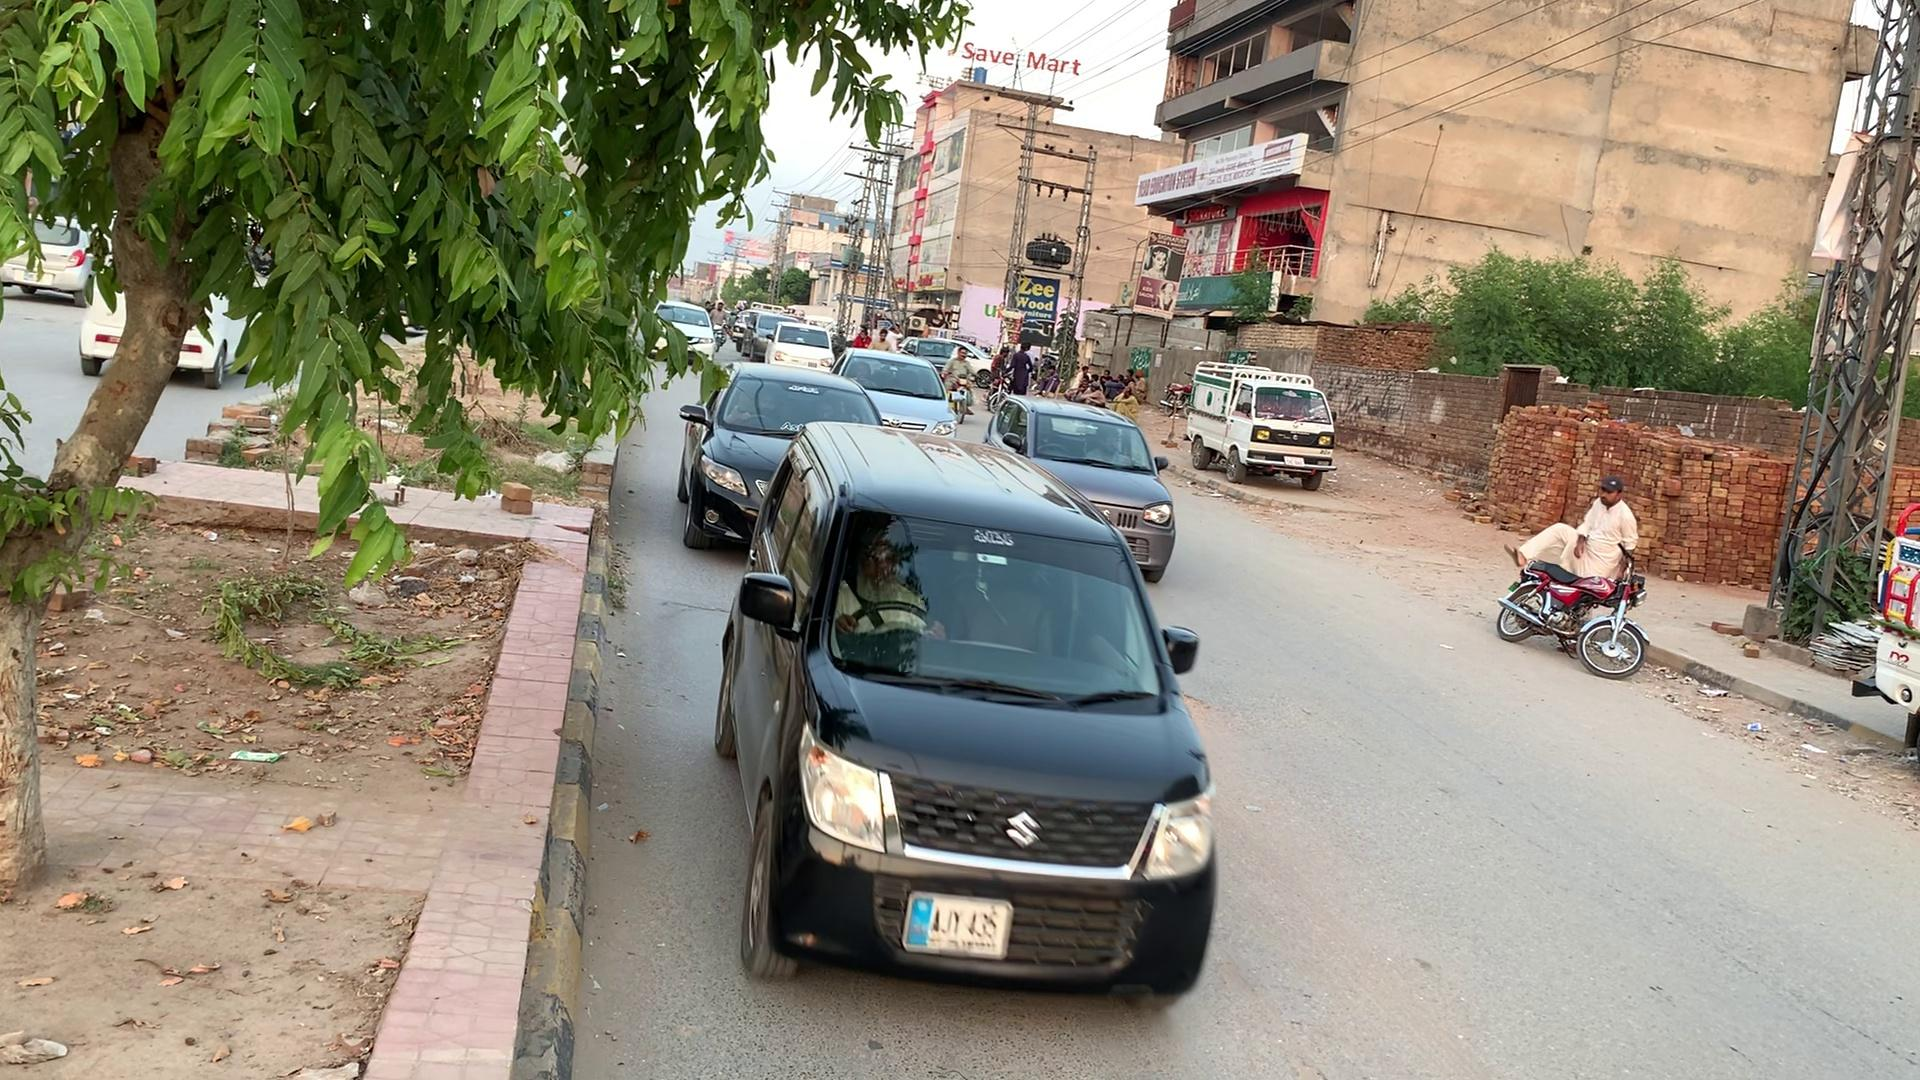windshield: (820, 493, 1184, 720)
